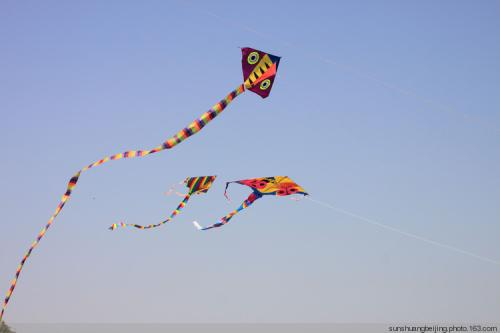kite: (4, 44, 284, 333), (110, 173, 216, 237), (199, 176, 311, 233)
